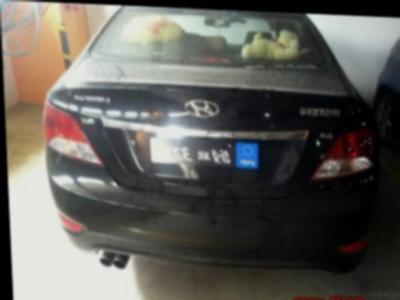License_Plate: (152, 135, 259, 168)
